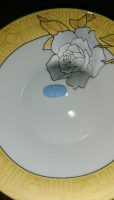Majezik: (42, 84, 67, 98)
